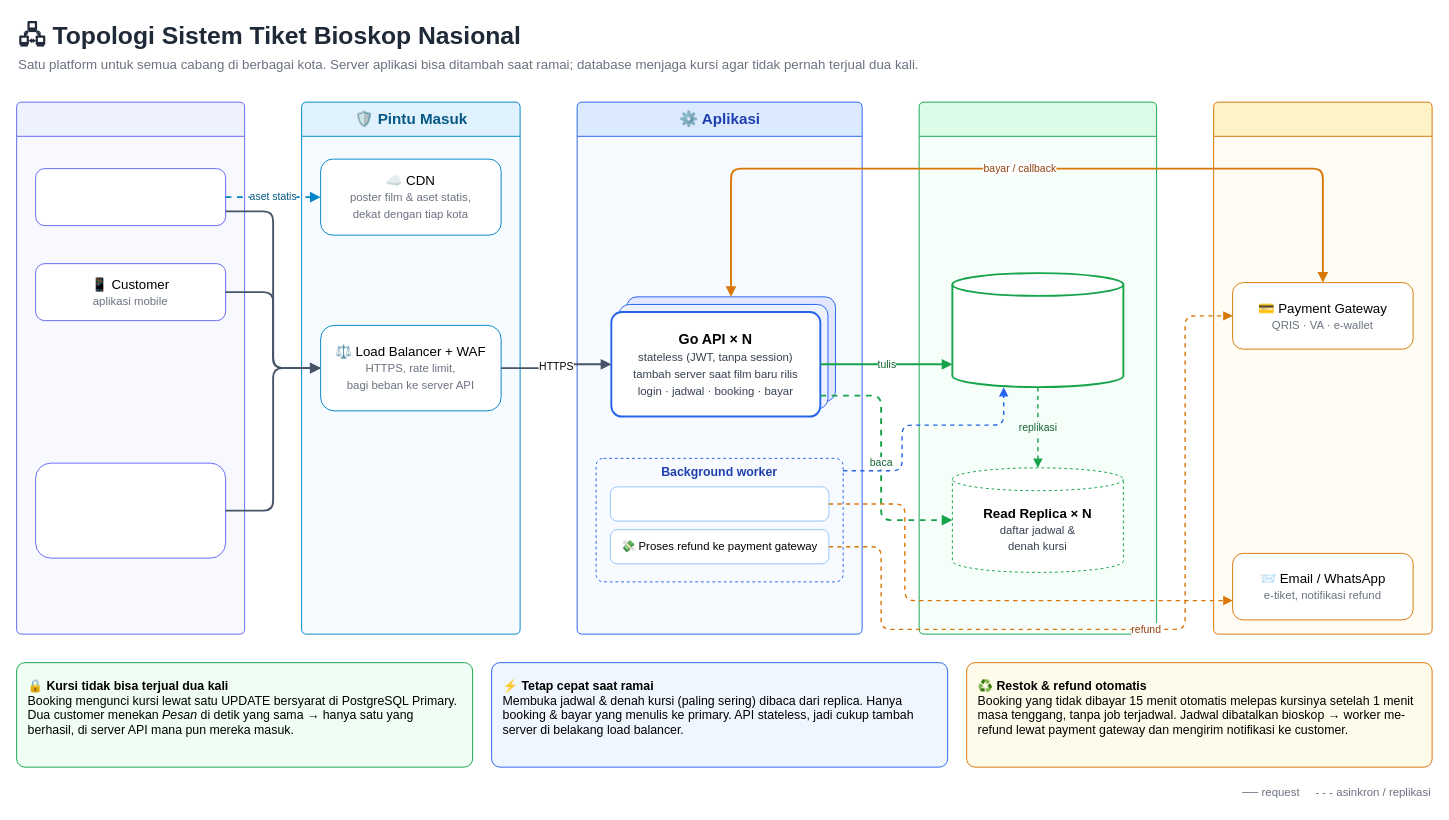
This 1449x820 diagram has some shape labels left out. The box of each missing label's shape, as (x1, y1, x2, y2) in pixels:
PostgreSQL Primary booking, pembayaran, kunci kursi atomik: (951, 272, 1124, 388)
✉️ Kirim e-tiket & info pembatalan: (609, 486, 829, 521)
🌐 Customer web browser: (35, 168, 226, 226)
👥 Pengguna: (16, 101, 245, 634)
🔌 Layanan Luar: (1213, 101, 1432, 634)
🗄️ Data: (918, 101, 1157, 634)
🧑‍💼 Admin bioskop cabang di tiap kota: kelola & batalkan jadwal: (35, 462, 226, 558)
